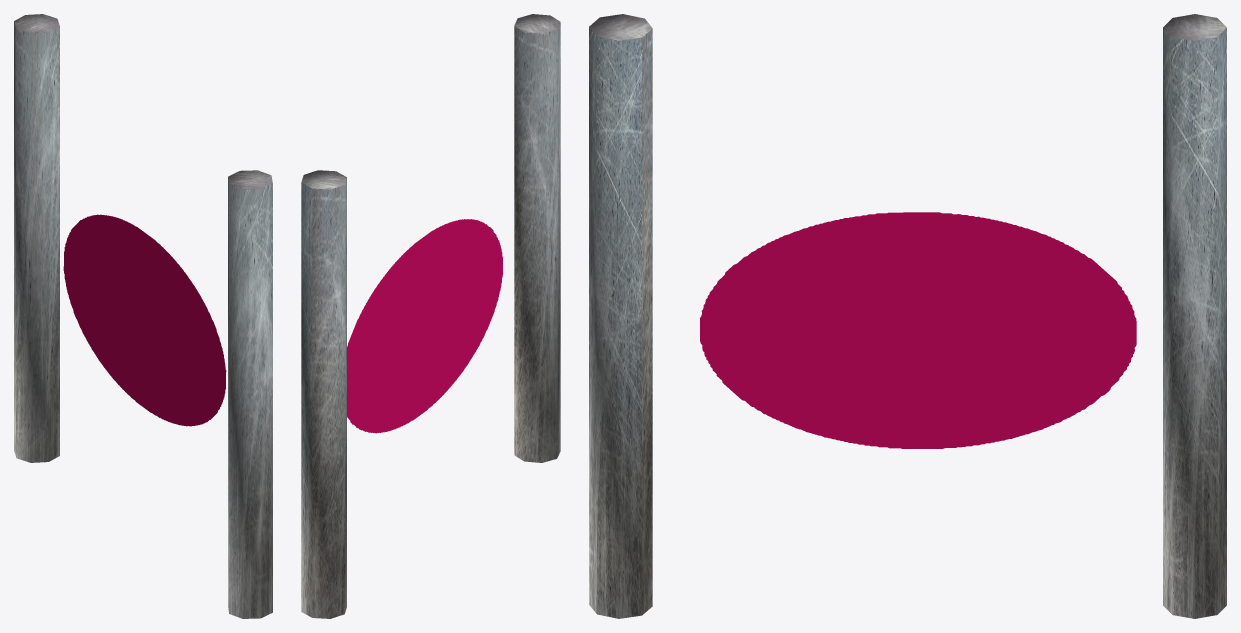
File: gates.glb
The picture shows the model from 3 angles, left to right: view 1: azimuth 30°, elevation 25°; view 2: azimuth 150°, elevation 25°; view 3: azimuth 270°, elevation 25°; orthographic projection. The views are drawn at different scales.
Visible parts, largest first — view 1: Cylinder.002, Cylinder.001, Cylinder; view 2: Cylinder.002, Cylinder, Cylinder.001; view 3: Cylinder.002, Cylinder, Cylinder.001.
Part boxes in pixels (x1,y1,x2,y2): Cylinder.002: (63, 214, 226, 426); Cylinder.001: (14, 14, 59, 462); Cylinder: (228, 170, 272, 618); Cylinder.002: (347, 219, 502, 433); Cylinder: (514, 14, 560, 462); Cylinder.001: (301, 170, 346, 618); Cylinder.002: (700, 212, 1136, 448); Cylinder: (589, 14, 652, 618); Cylinder.001: (1163, 14, 1226, 618).
Size of the model in its own units: 0.2 by 2 by 2.
Materials: 2 (2 with a texture image).
